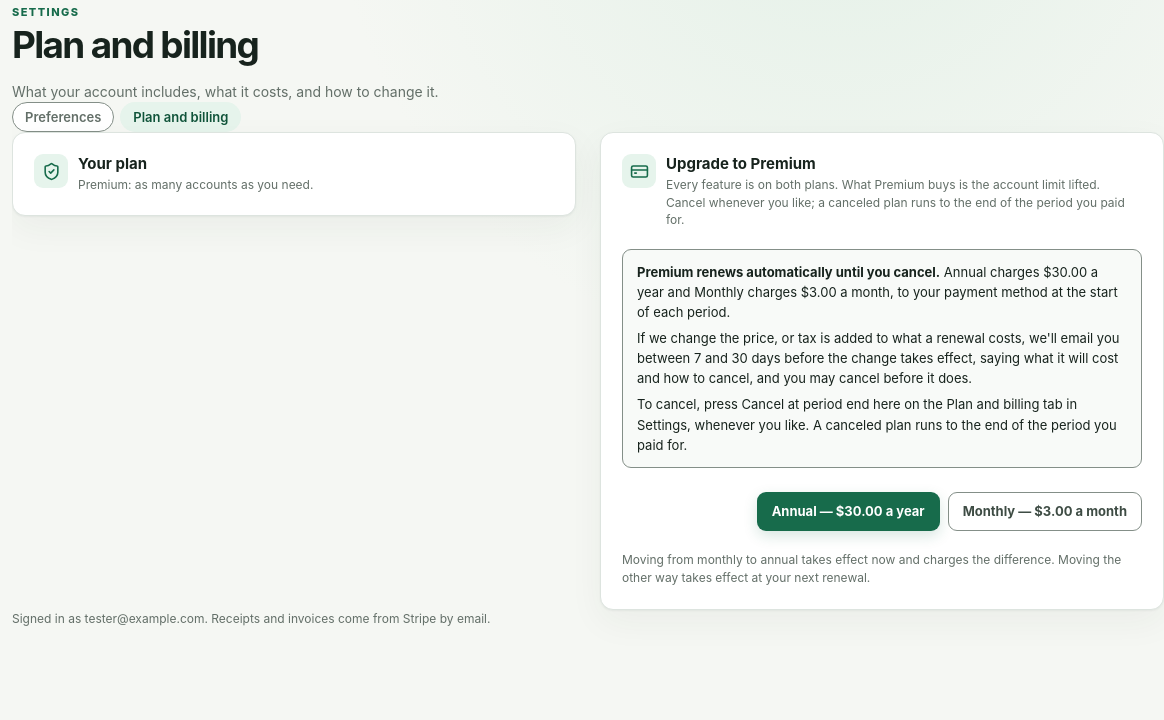
it: the plan tab › keeps 'Pay and upgrade' for the payment that starts a plan
Click the button "Annual — $30.00 a year" at (848, 511), box left=757, top=492, right=940, bottom=531
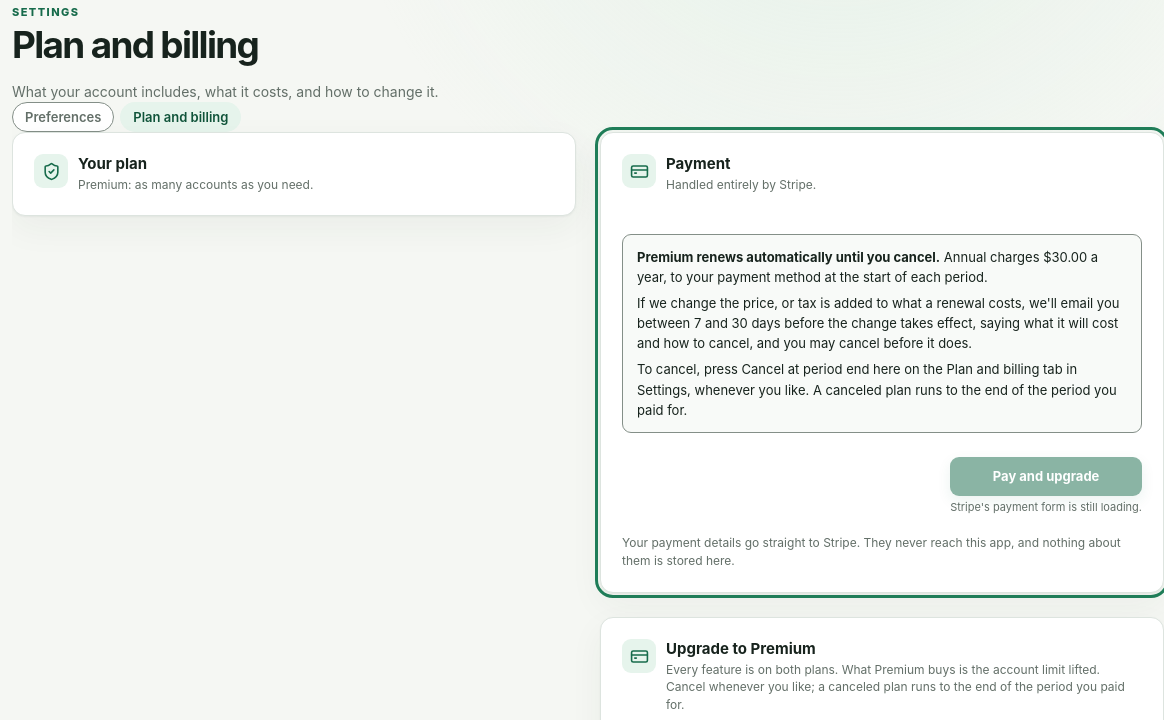
Check: the button "Pay and upgrade" is shown, box left=950, top=457, right=1142, bottom=496
